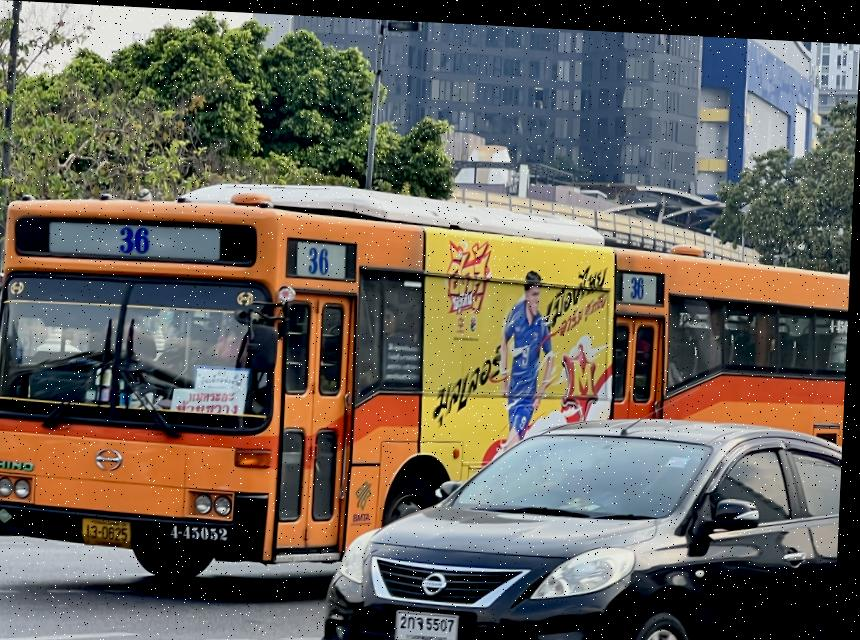BMTA-bus: (0, 182, 852, 578)
Bus Line Number: (113, 222, 157, 255), (306, 235, 337, 276), (630, 263, 652, 297)
Bus Side Number: (170, 518, 240, 543)
Destination Sign: (174, 383, 248, 414)
